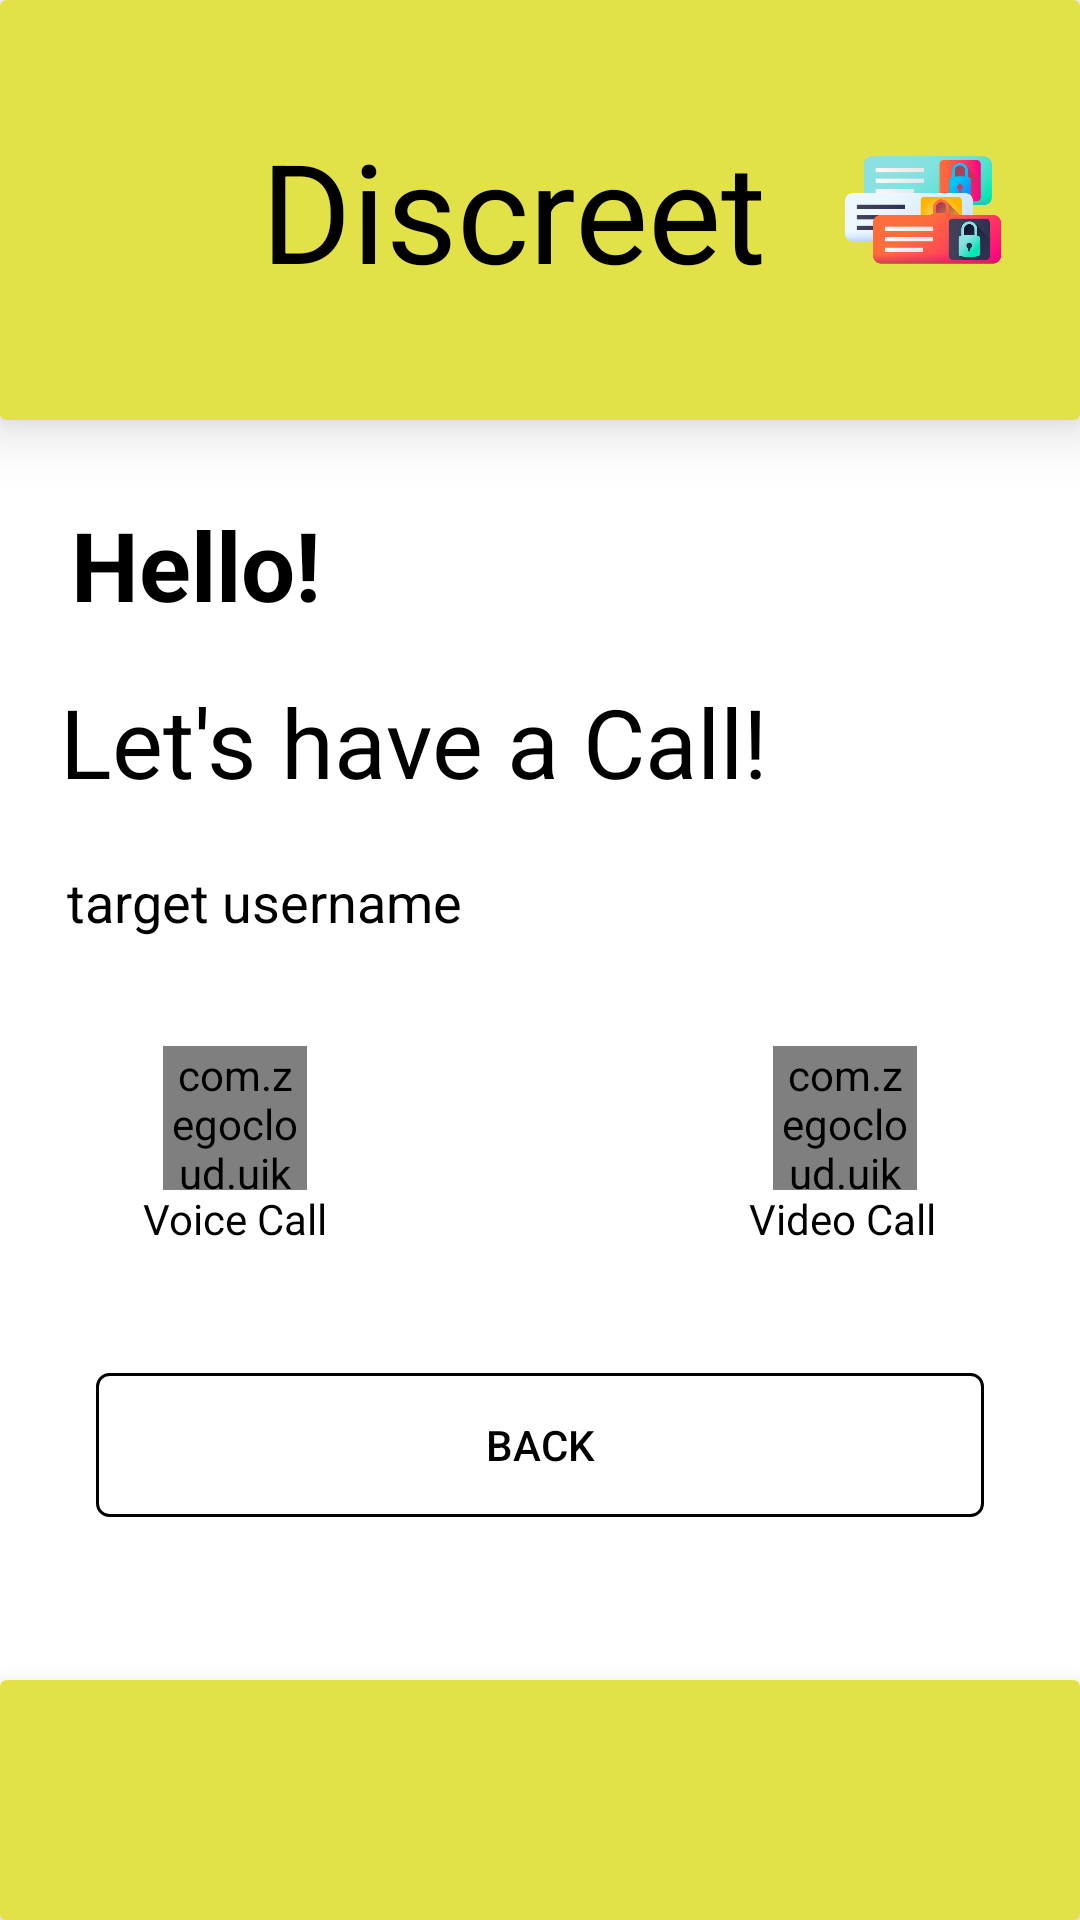

Icons on this 1080w x 1920h Android screen, each with the point to tap as (x=x, y=y):
protection: (x=923, y=210)
